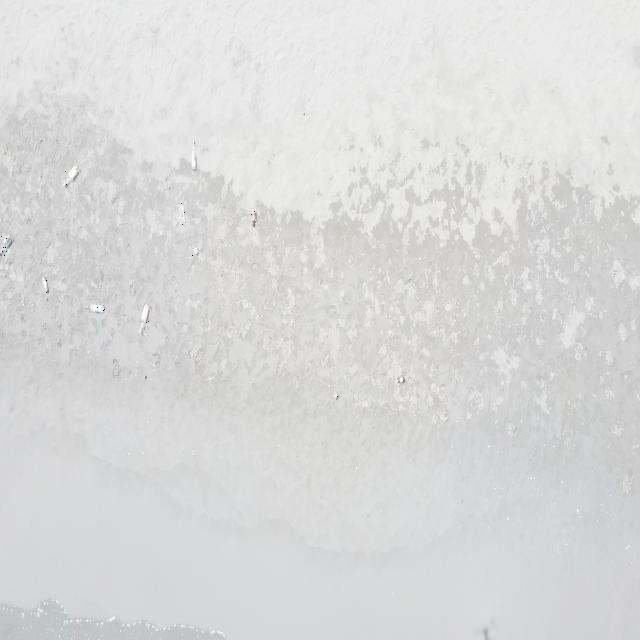glass: (140, 304, 152, 336), (65, 166, 80, 185), (190, 140, 198, 174), (1, 235, 12, 256), (179, 200, 187, 225), (86, 304, 105, 314), (251, 209, 257, 228), (42, 278, 49, 293), (192, 243, 199, 257), (396, 376, 406, 384), (334, 391, 340, 401)
